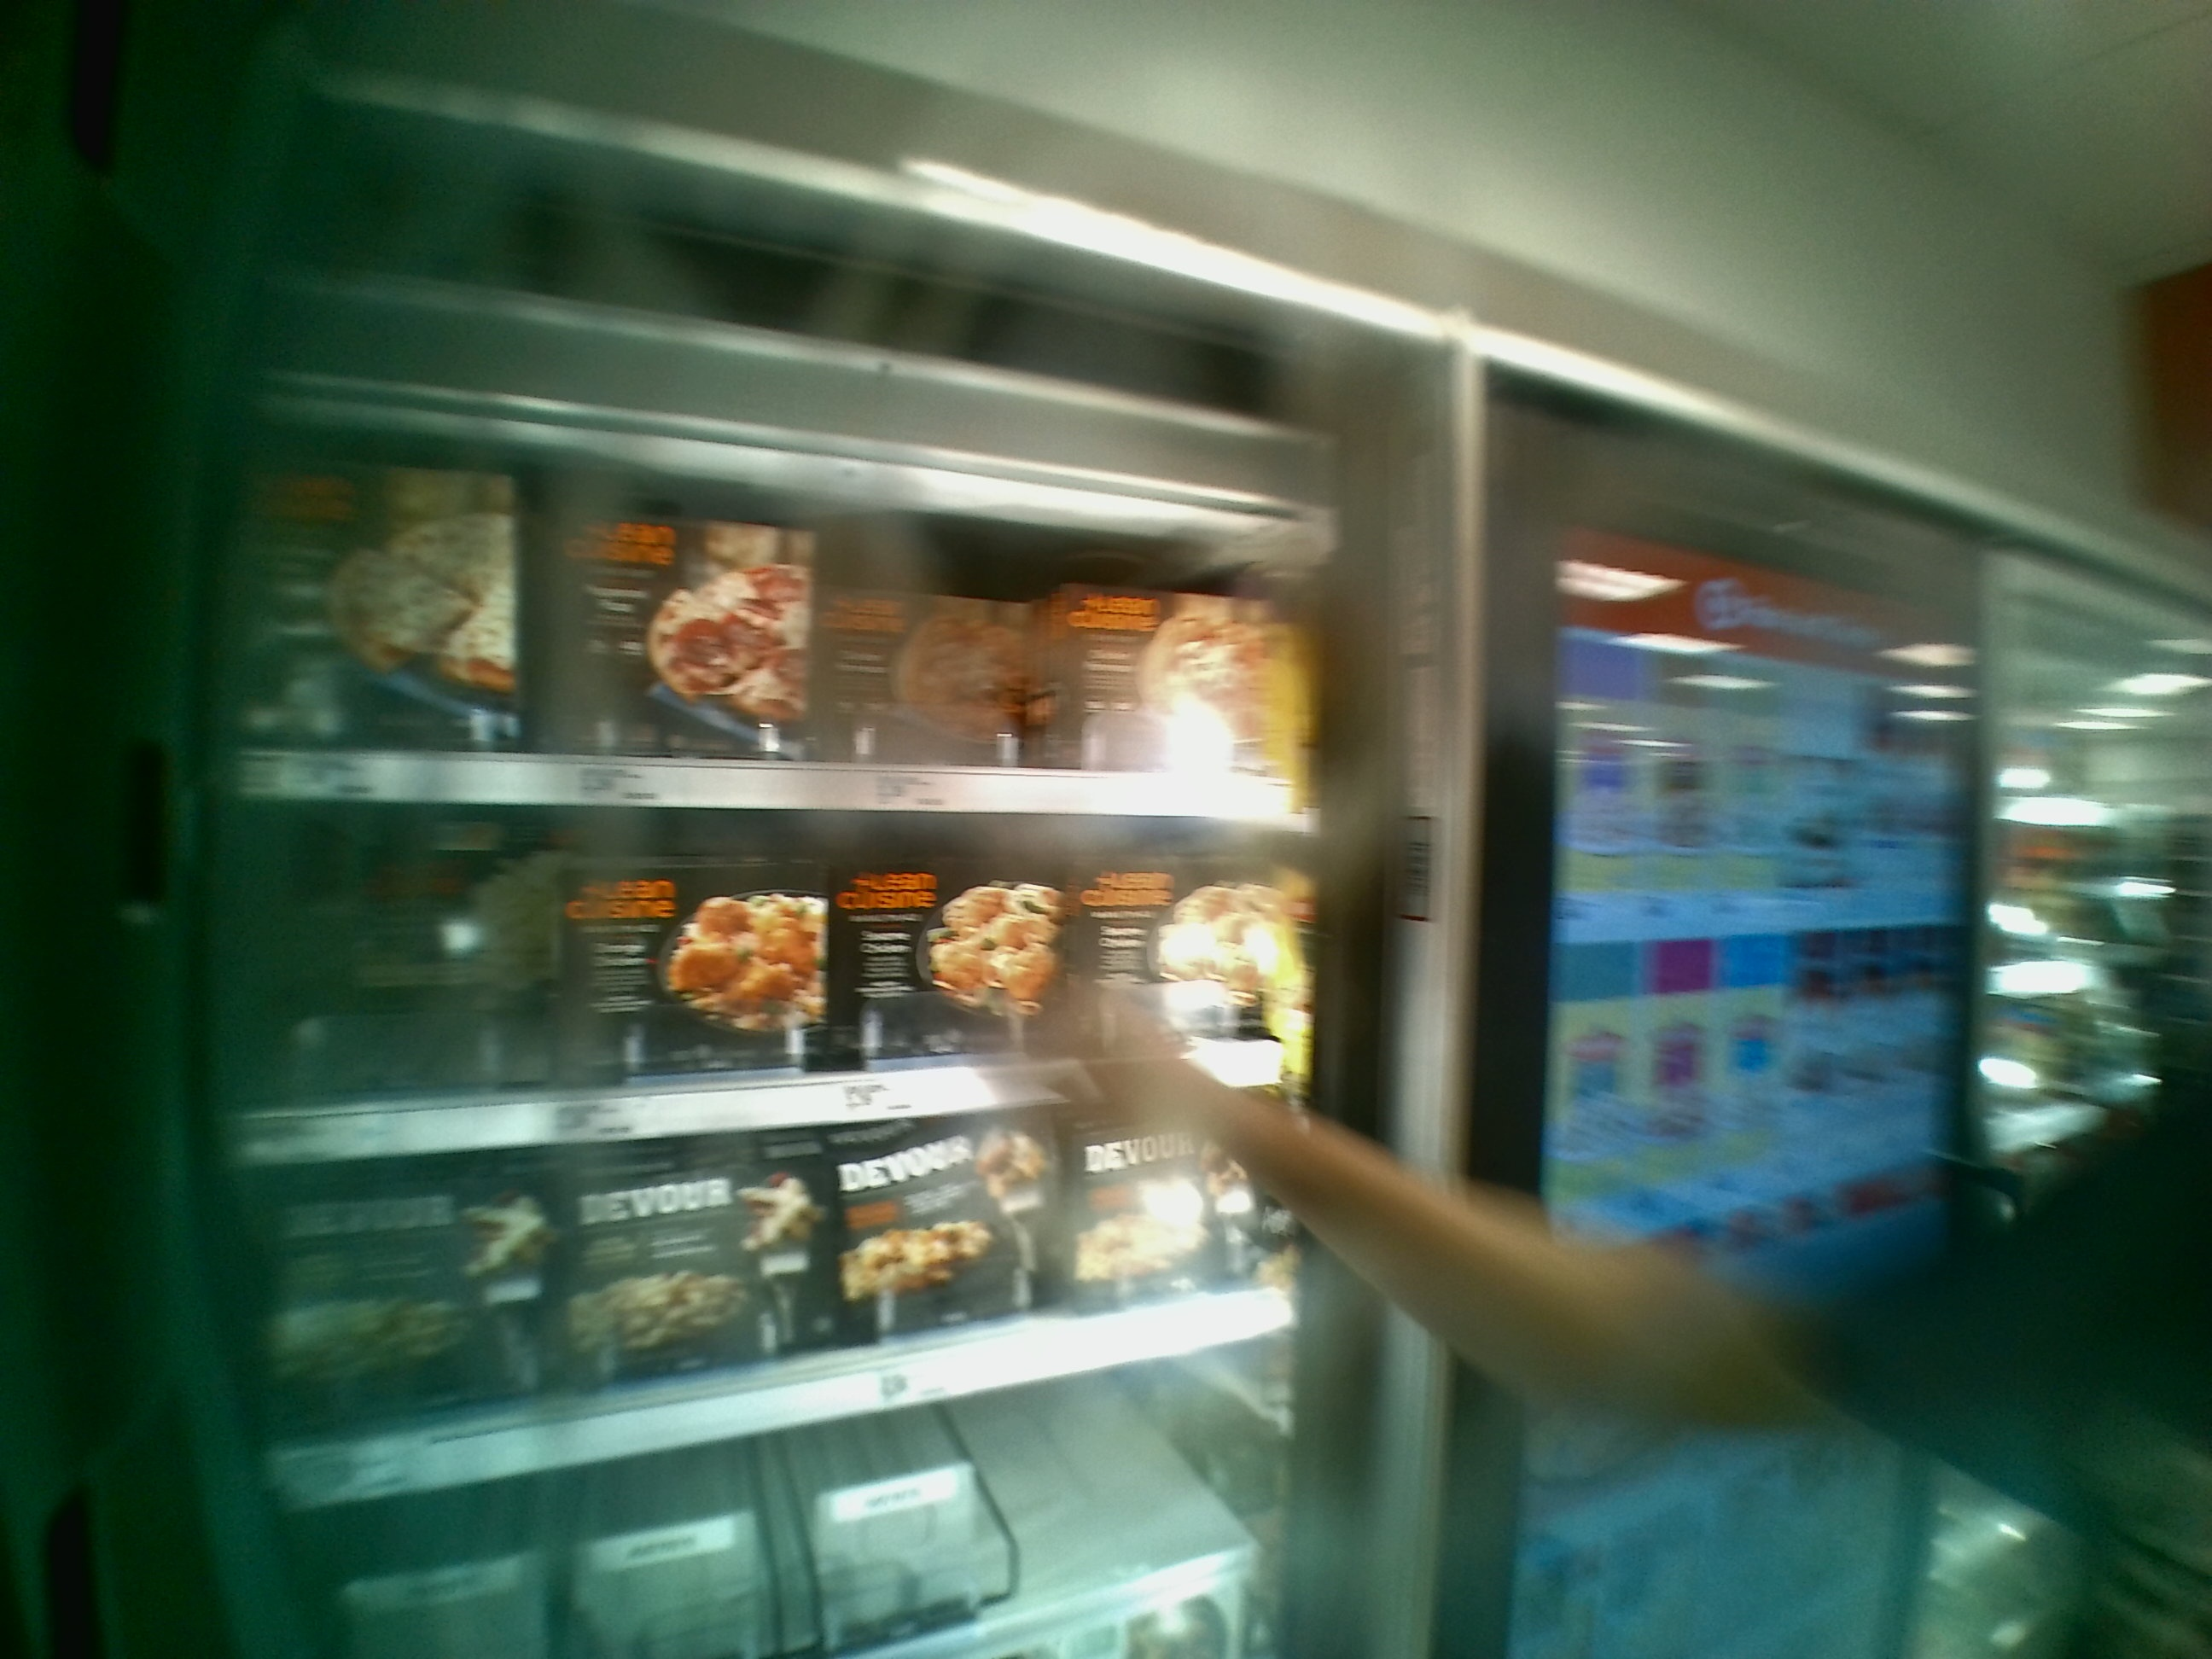shelf: (239, 413, 1299, 828)
